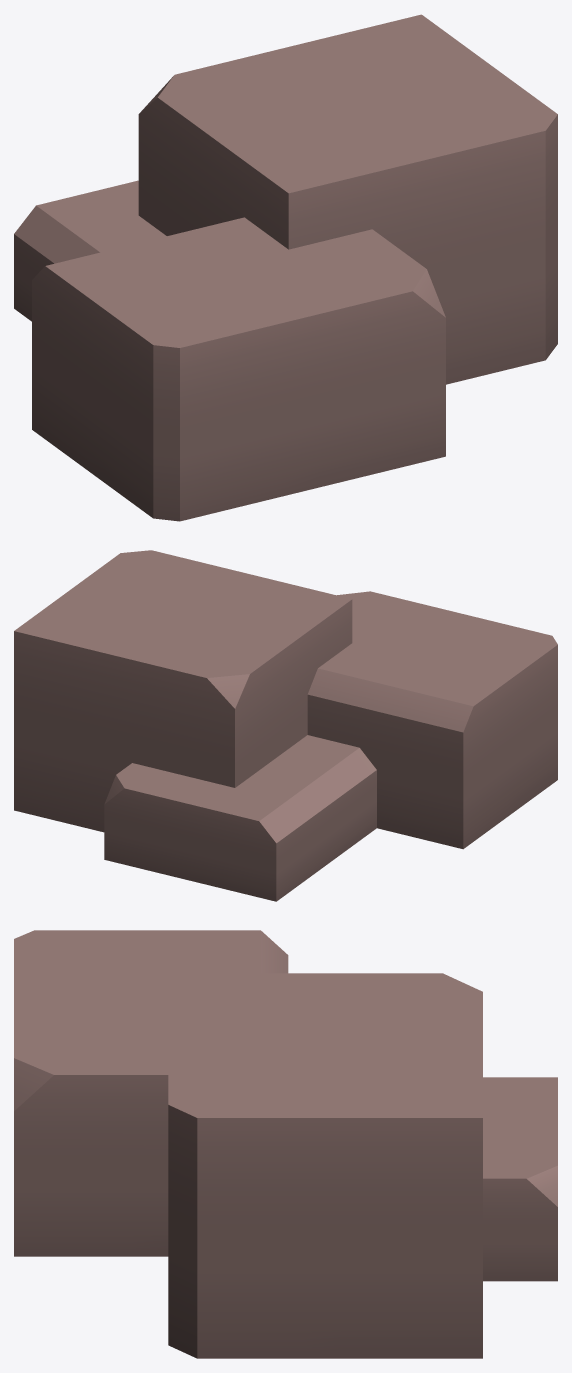
The model's file is Rock_01.fbx.
3 renders of one model, top to bottom at view 1: azimuth 30°, elevation 25°; view 2: azimuth 150°, elevation 25°; view 3: azimuth 270°, elevation 25°, orthographic. The views are drawn at different scales.
Parts seen in each view (by area): view 1: Rock1; view 2: Rock1; view 3: Rock1.
Boxes of the visible parts, x1,y1,x2,y2 form: Rock1: [14, 14, 557, 521]; Rock1: [14, 550, 557, 901]; Rock1: [14, 930, 557, 1358].
Bounding box in the file's own units: 67.83 × 30.85 × 63.22.
